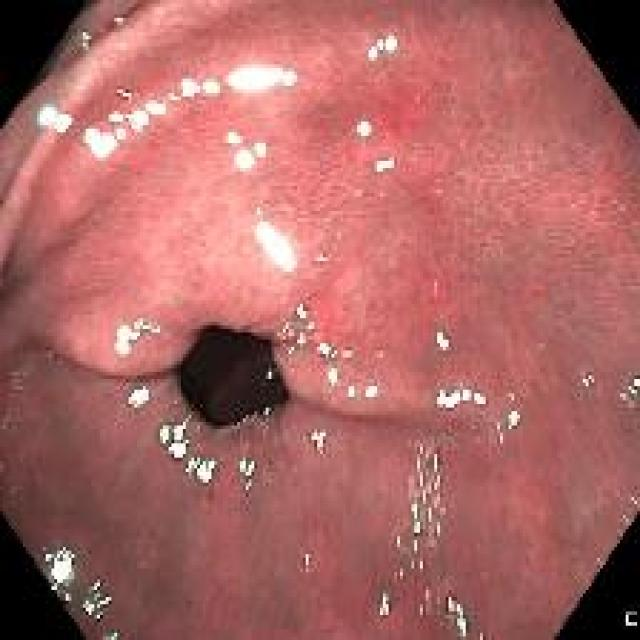bubbles: (578, 370, 597, 391), (34, 472, 46, 489), (260, 422, 272, 435), (232, 422, 243, 435)
contrast: (176, 325, 289, 428)
specularity: (403, 428, 451, 574), (250, 216, 295, 279), (223, 62, 301, 98), (40, 544, 76, 600), (113, 316, 159, 355), (155, 419, 192, 459), (35, 103, 73, 138), (83, 578, 109, 625), (444, 591, 469, 637), (81, 126, 116, 158), (232, 454, 260, 493), (305, 422, 332, 458), (366, 34, 398, 64), (124, 381, 154, 413), (189, 457, 217, 487), (315, 341, 353, 361), (374, 588, 396, 619), (126, 105, 150, 133), (351, 116, 376, 141), (177, 75, 201, 101), (297, 544, 315, 578), (435, 386, 460, 410), (505, 406, 524, 437), (144, 94, 170, 116), (77, 26, 95, 56), (114, 81, 137, 104), (621, 374, 639, 401), (373, 157, 397, 176), (323, 364, 341, 389), (233, 148, 254, 169), (203, 75, 221, 98), (294, 299, 311, 323), (105, 109, 126, 128), (222, 128, 243, 147), (433, 329, 451, 351), (111, 11, 128, 31), (473, 388, 487, 411), (165, 87, 181, 105), (253, 140, 268, 158), (363, 382, 378, 400), (286, 342, 301, 360), (460, 384, 472, 406), (303, 318, 319, 334), (116, 123, 128, 144), (345, 385, 360, 401), (263, 367, 277, 384), (392, 531, 403, 551), (276, 319, 292, 332), (261, 401, 273, 418), (293, 333, 307, 347), (397, 566, 408, 581), (420, 603, 421, 618)
